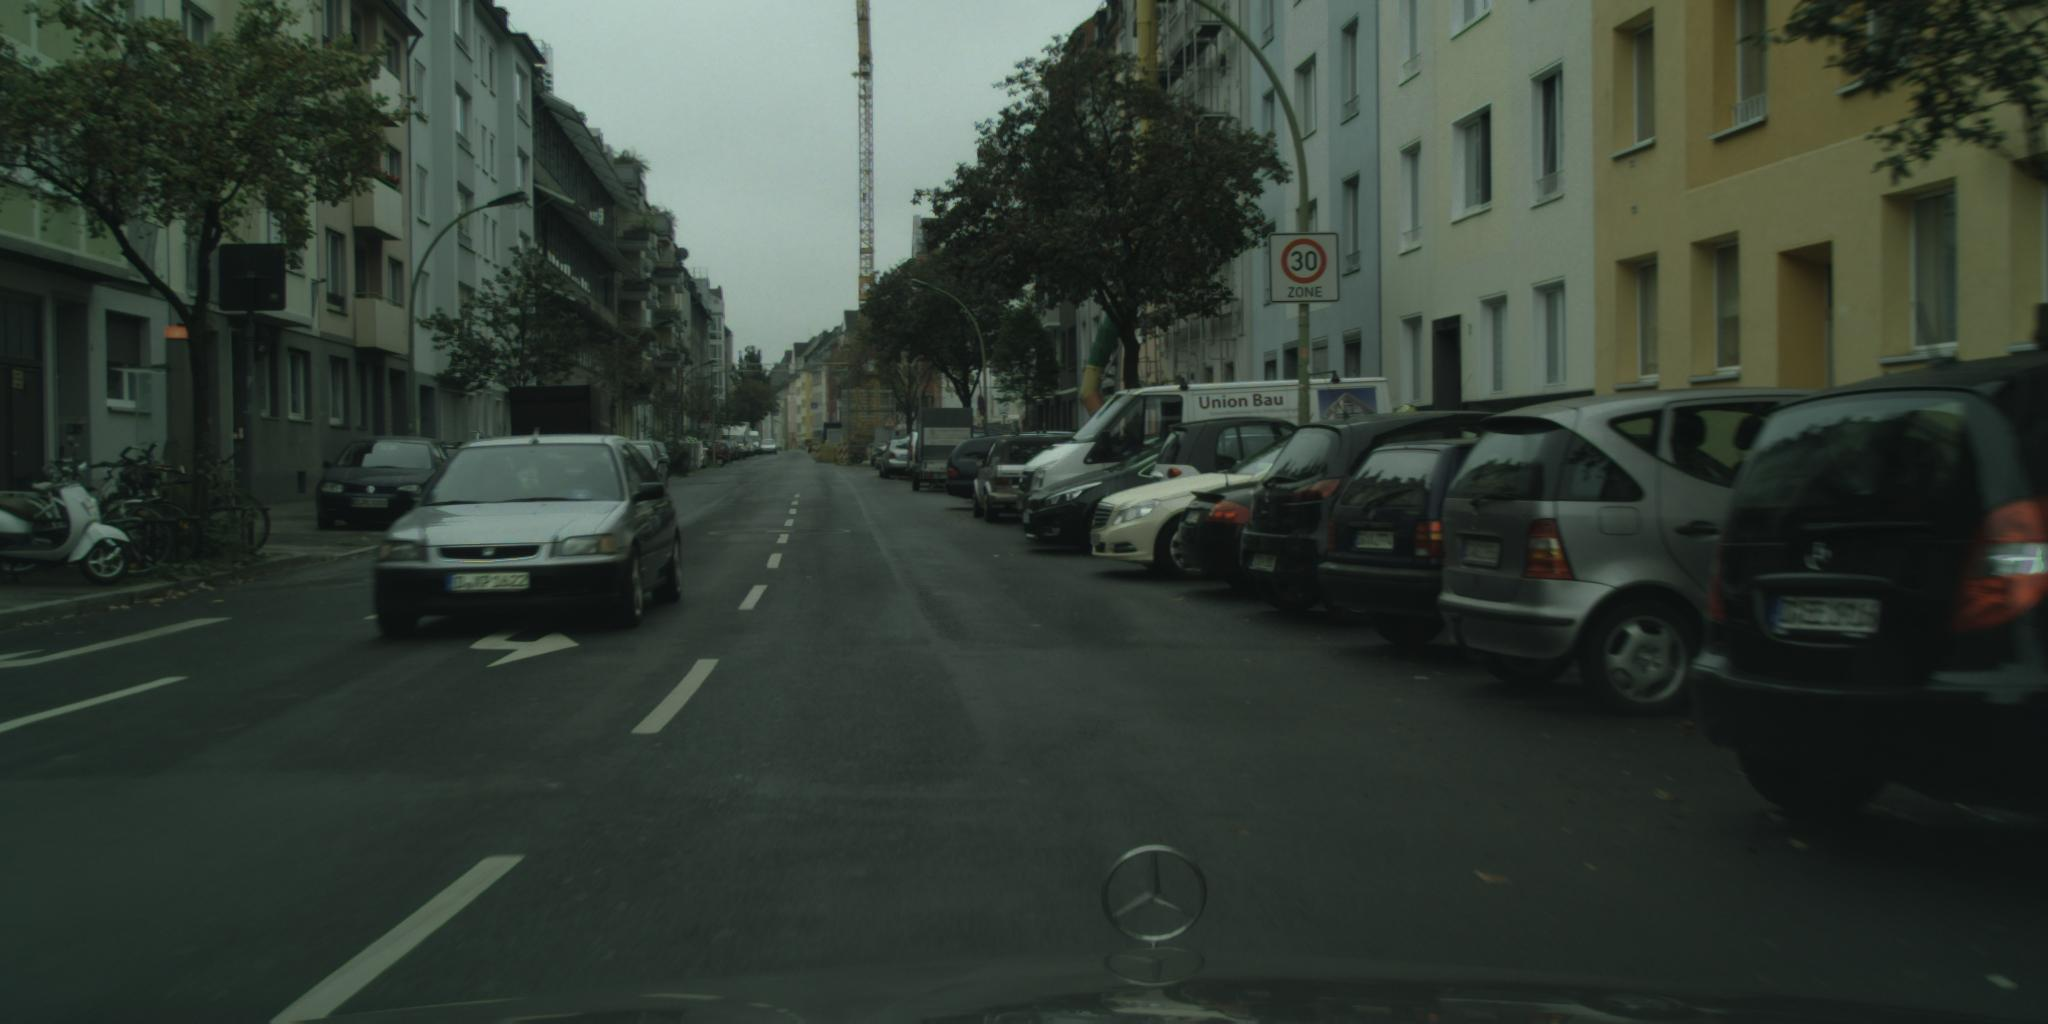car: (1689, 347, 2048, 819), (1438, 388, 1836, 724), (374, 434, 684, 640), (1017, 371, 1398, 521), (1240, 411, 1512, 615), (1318, 438, 1505, 649), (1091, 434, 1310, 584), (1023, 438, 1203, 550), (1178, 478, 1302, 601), (316, 436, 468, 534), (1151, 418, 1311, 488), (946, 434, 1081, 502), (973, 438, 1071, 524), (913, 408, 974, 494), (761, 440, 778, 455)
motorcycle: (1, 460, 133, 588)
